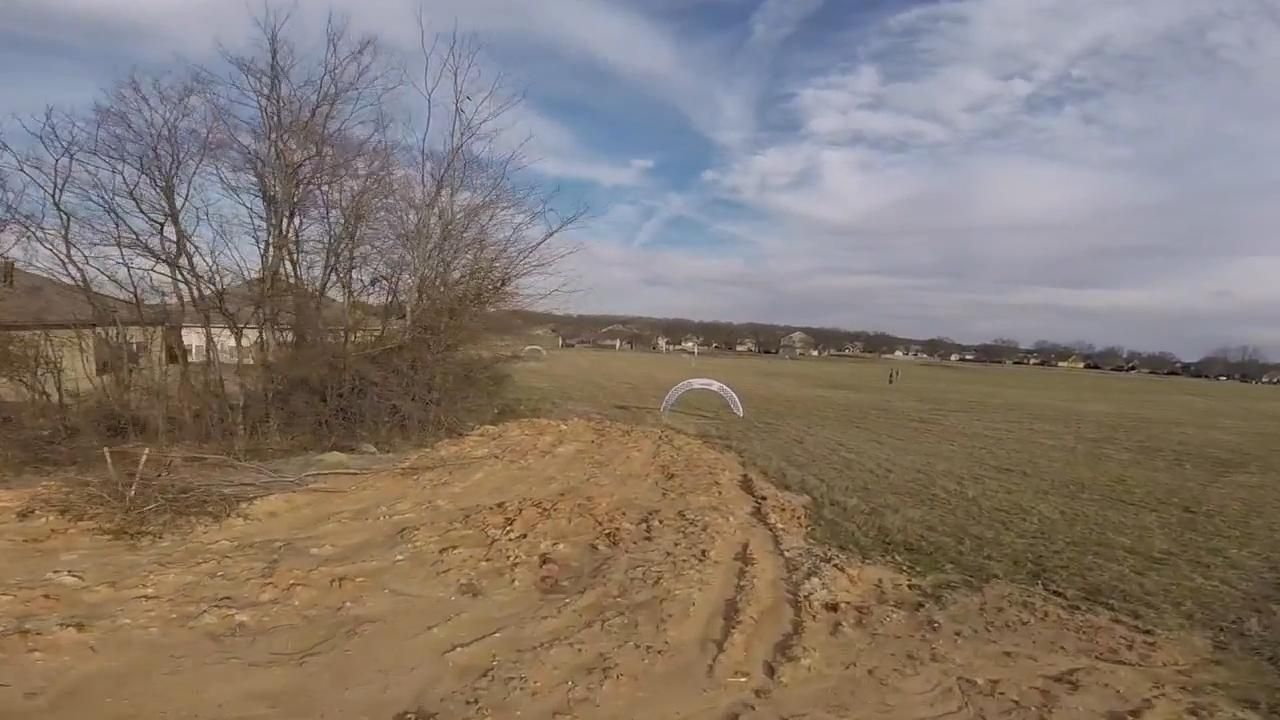gate: (660, 376, 747, 421)
